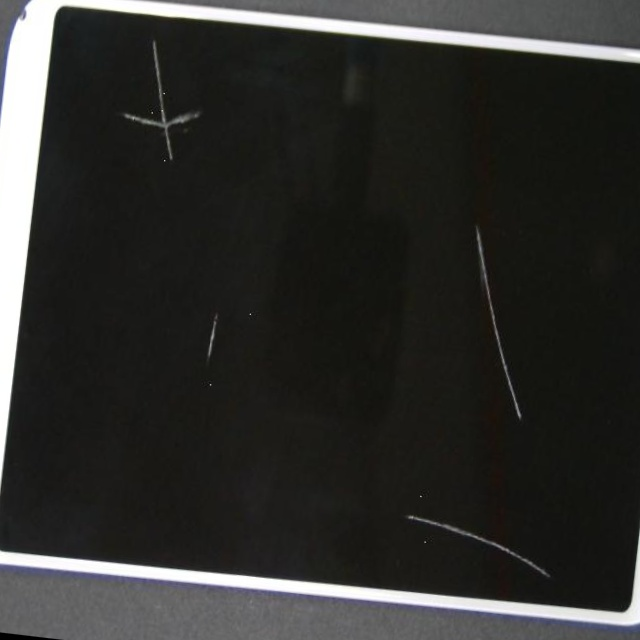scratch: (116, 0, 640, 532), (80, 174, 640, 640), (33, 87, 348, 587), (51, 0, 246, 151)
